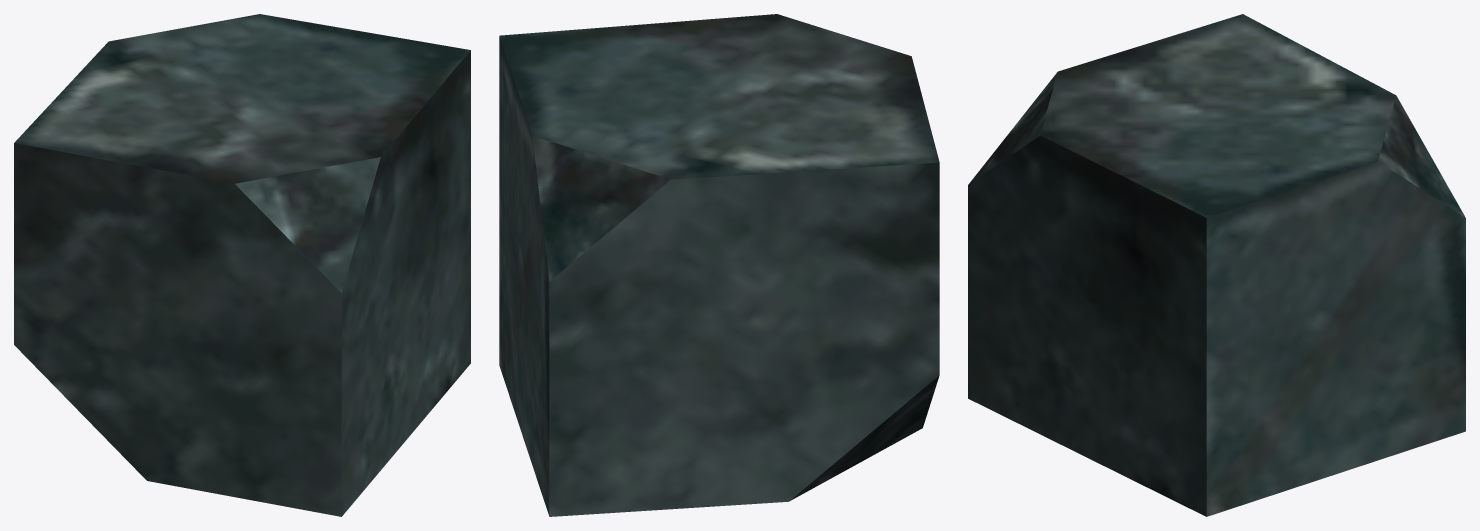
File: floor_peice3.fbx
The picture shows the model from 3 angles, left to right: view 1: azimuth 30°, elevation 25°; view 2: azimuth 150°, elevation 25°; view 3: azimuth 270°, elevation 25°; orthographic projection. The views are drawn at different scales.
Visible parts, largest first — view 1: obj0.010; view 2: obj0.010; view 3: obj0.010.
Boxes of the visible parts, left/top/right/bottom form: obj0.010: left=14, top=14, right=470, bottom=516; obj0.010: left=499, top=14, right=939, bottom=516; obj0.010: left=968, top=14, right=1465, bottom=516.
Size of the model in its own units: 0.743 by 0.5083 by 0.767.
